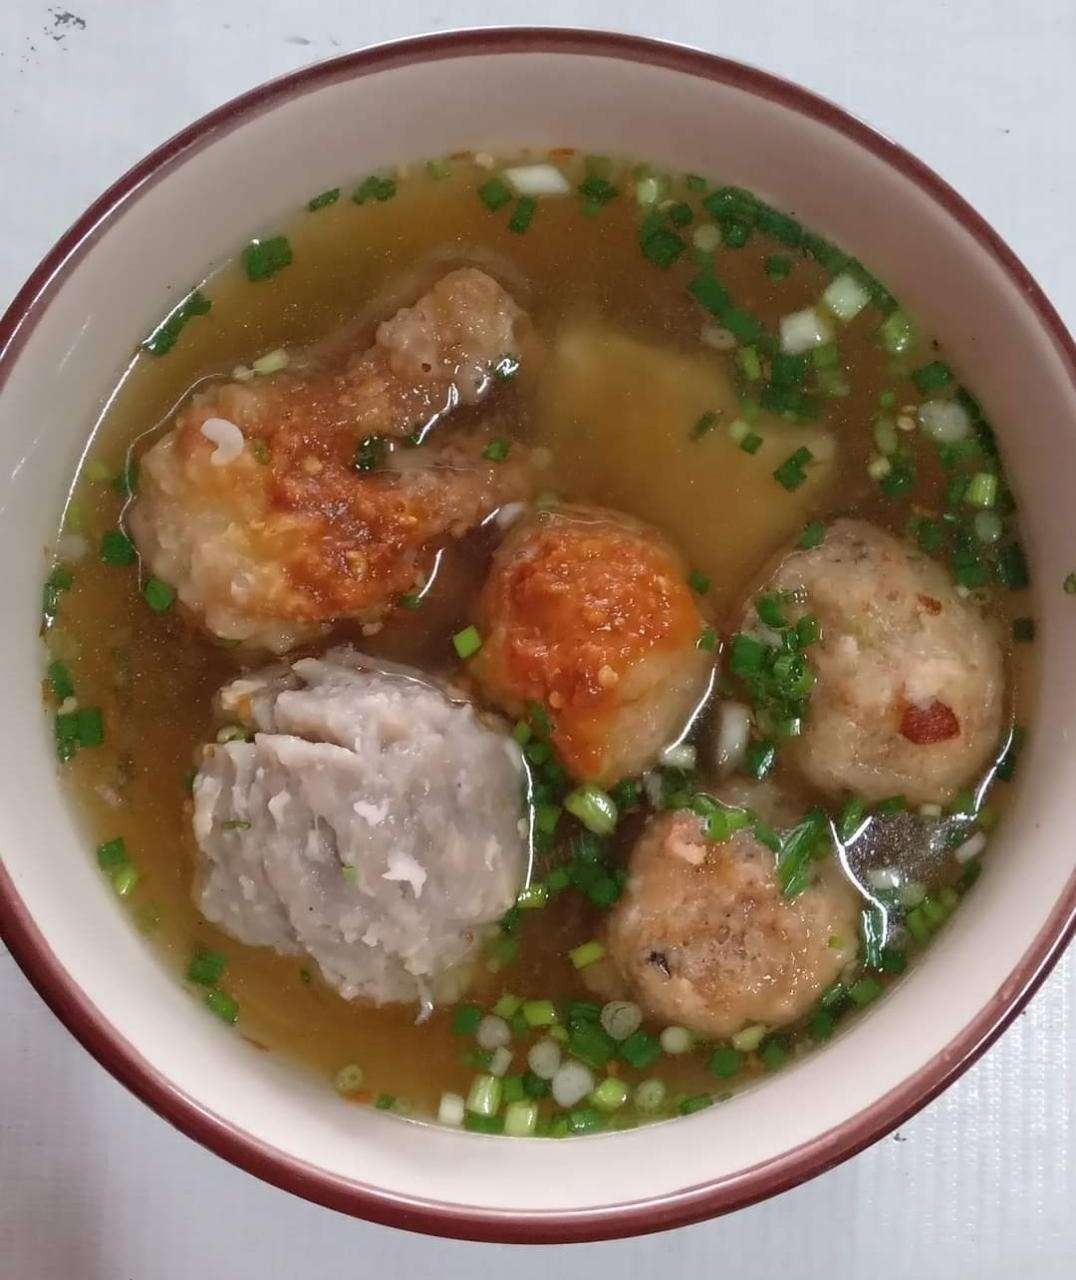bakso_malang: (39, 151, 1045, 1138)
